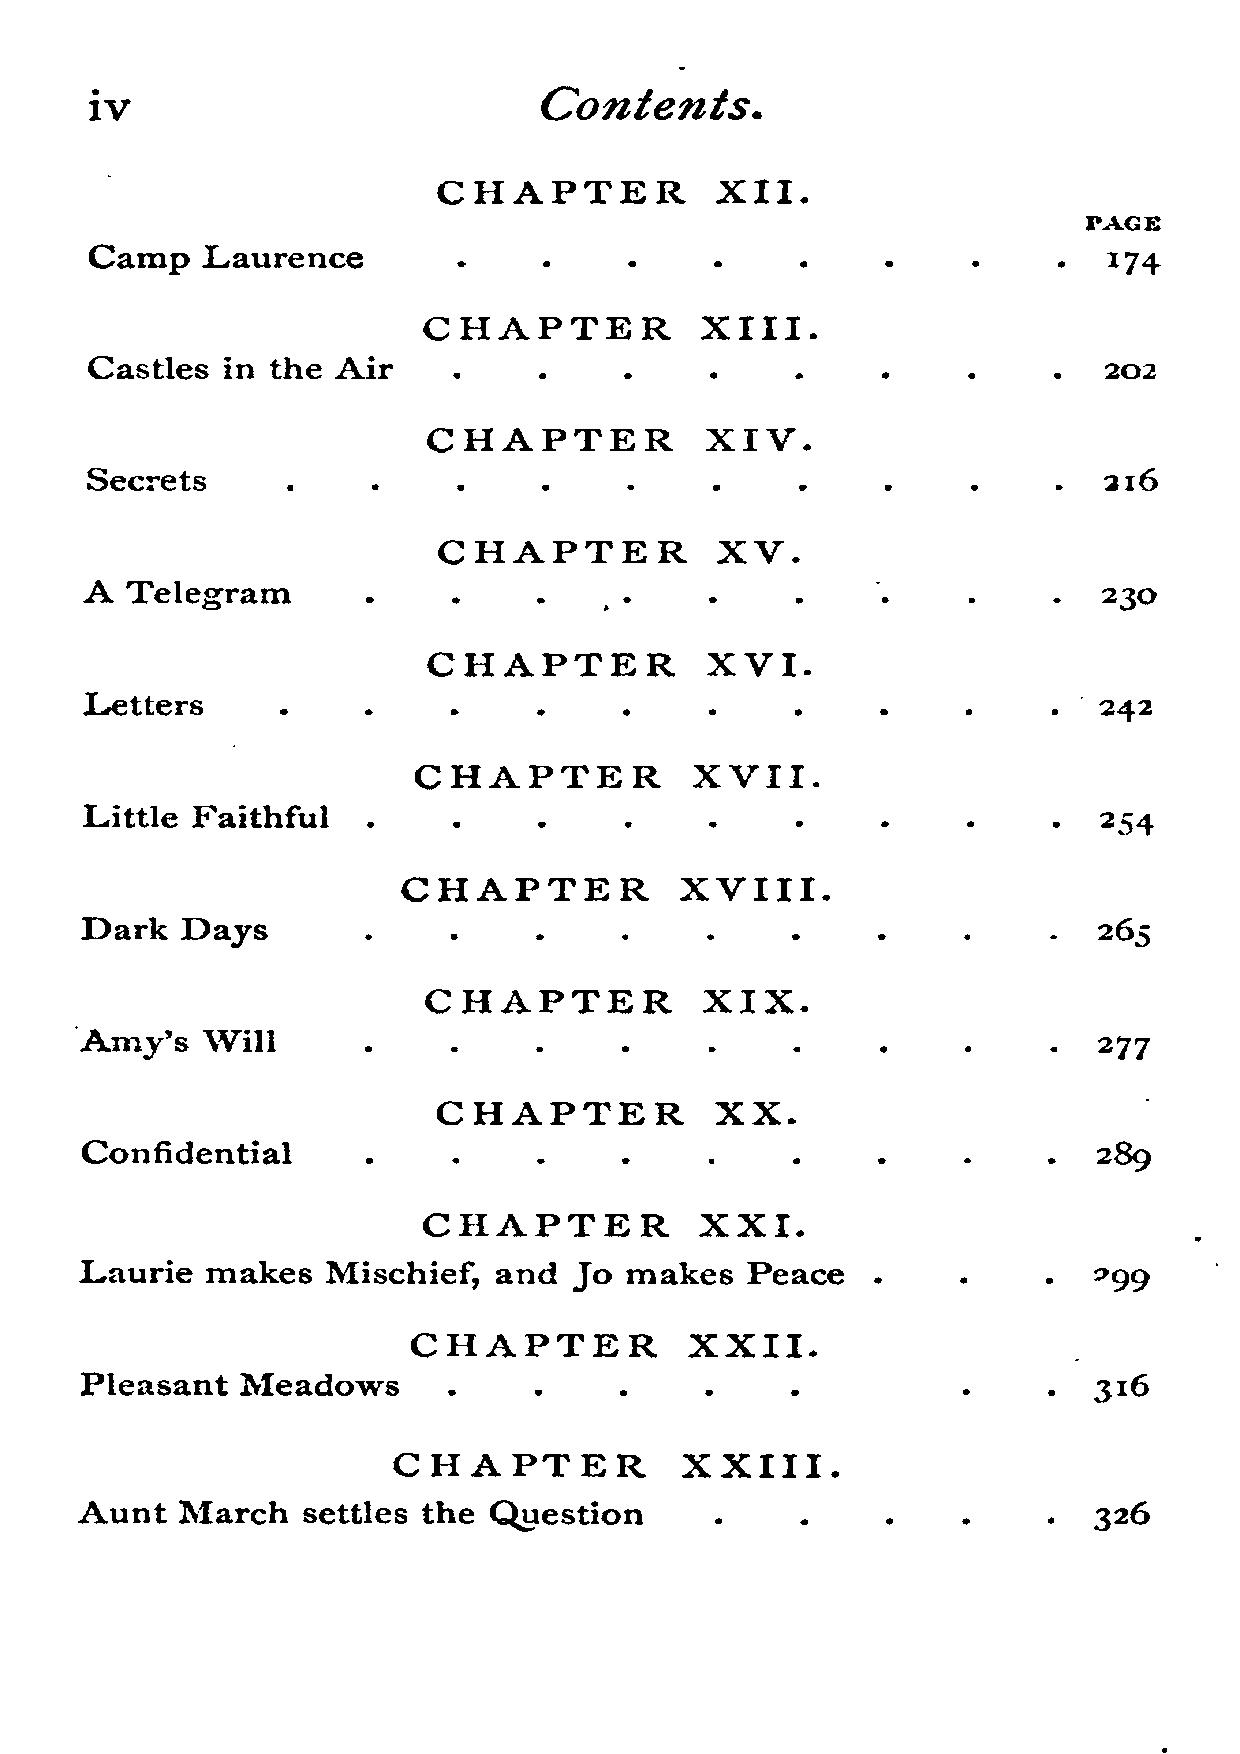TOC_chapter: (75, 1245, 845, 1298), (60, 1488, 670, 1549), (400, 1312, 839, 1372), (391, 1439, 849, 1495), (391, 862, 839, 913), (432, 1079, 811, 1138), (417, 157, 816, 211), (416, 972, 819, 1021), (425, 633, 820, 683), (420, 417, 819, 466), (433, 519, 807, 570), (407, 305, 823, 348), (409, 761, 823, 803), (407, 1200, 811, 1239), (75, 229, 365, 278), (68, 786, 331, 837), (68, 898, 283, 957), (81, 1365, 403, 1402), (76, 349, 397, 381), (60, 568, 301, 611), (76, 1129, 294, 1174), (68, 1023, 289, 1067), (66, 674, 212, 726), (70, 464, 217, 502)
TOC_pagenumber: (1095, 569, 1161, 623), (1084, 1024, 1154, 1072), (1092, 1495, 1159, 1545), (1092, 798, 1159, 845), (1092, 1135, 1159, 1181), (1095, 459, 1168, 501), (1086, 1253, 1150, 1298), (1098, 354, 1173, 392), (1095, 680, 1155, 726), (1088, 907, 1157, 945), (1092, 1365, 1154, 1406), (1107, 242, 1161, 276)
chapter: (529, 79, 772, 127)
